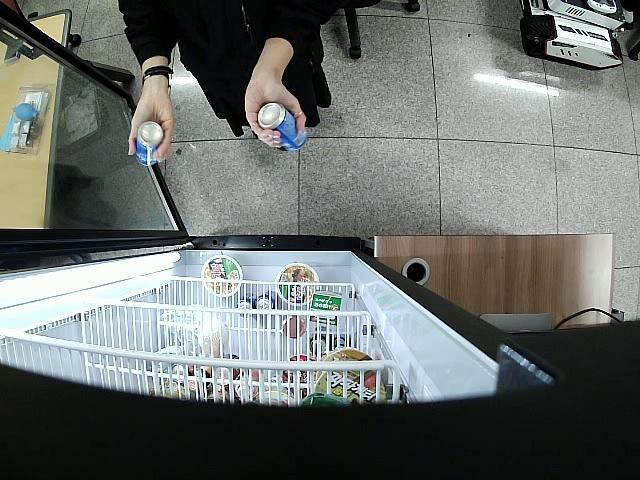15_letsbe: (258, 103, 308, 152), (136, 120, 164, 168)
